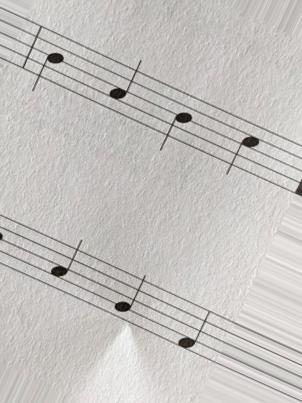A: (104, 56, 144, 124), (48, 234, 86, 305)
B: (27, 17, 67, 96), (153, 80, 194, 155)
F: (178, 296, 214, 365)
G: (113, 265, 149, 332)
HC: (221, 111, 263, 180)
